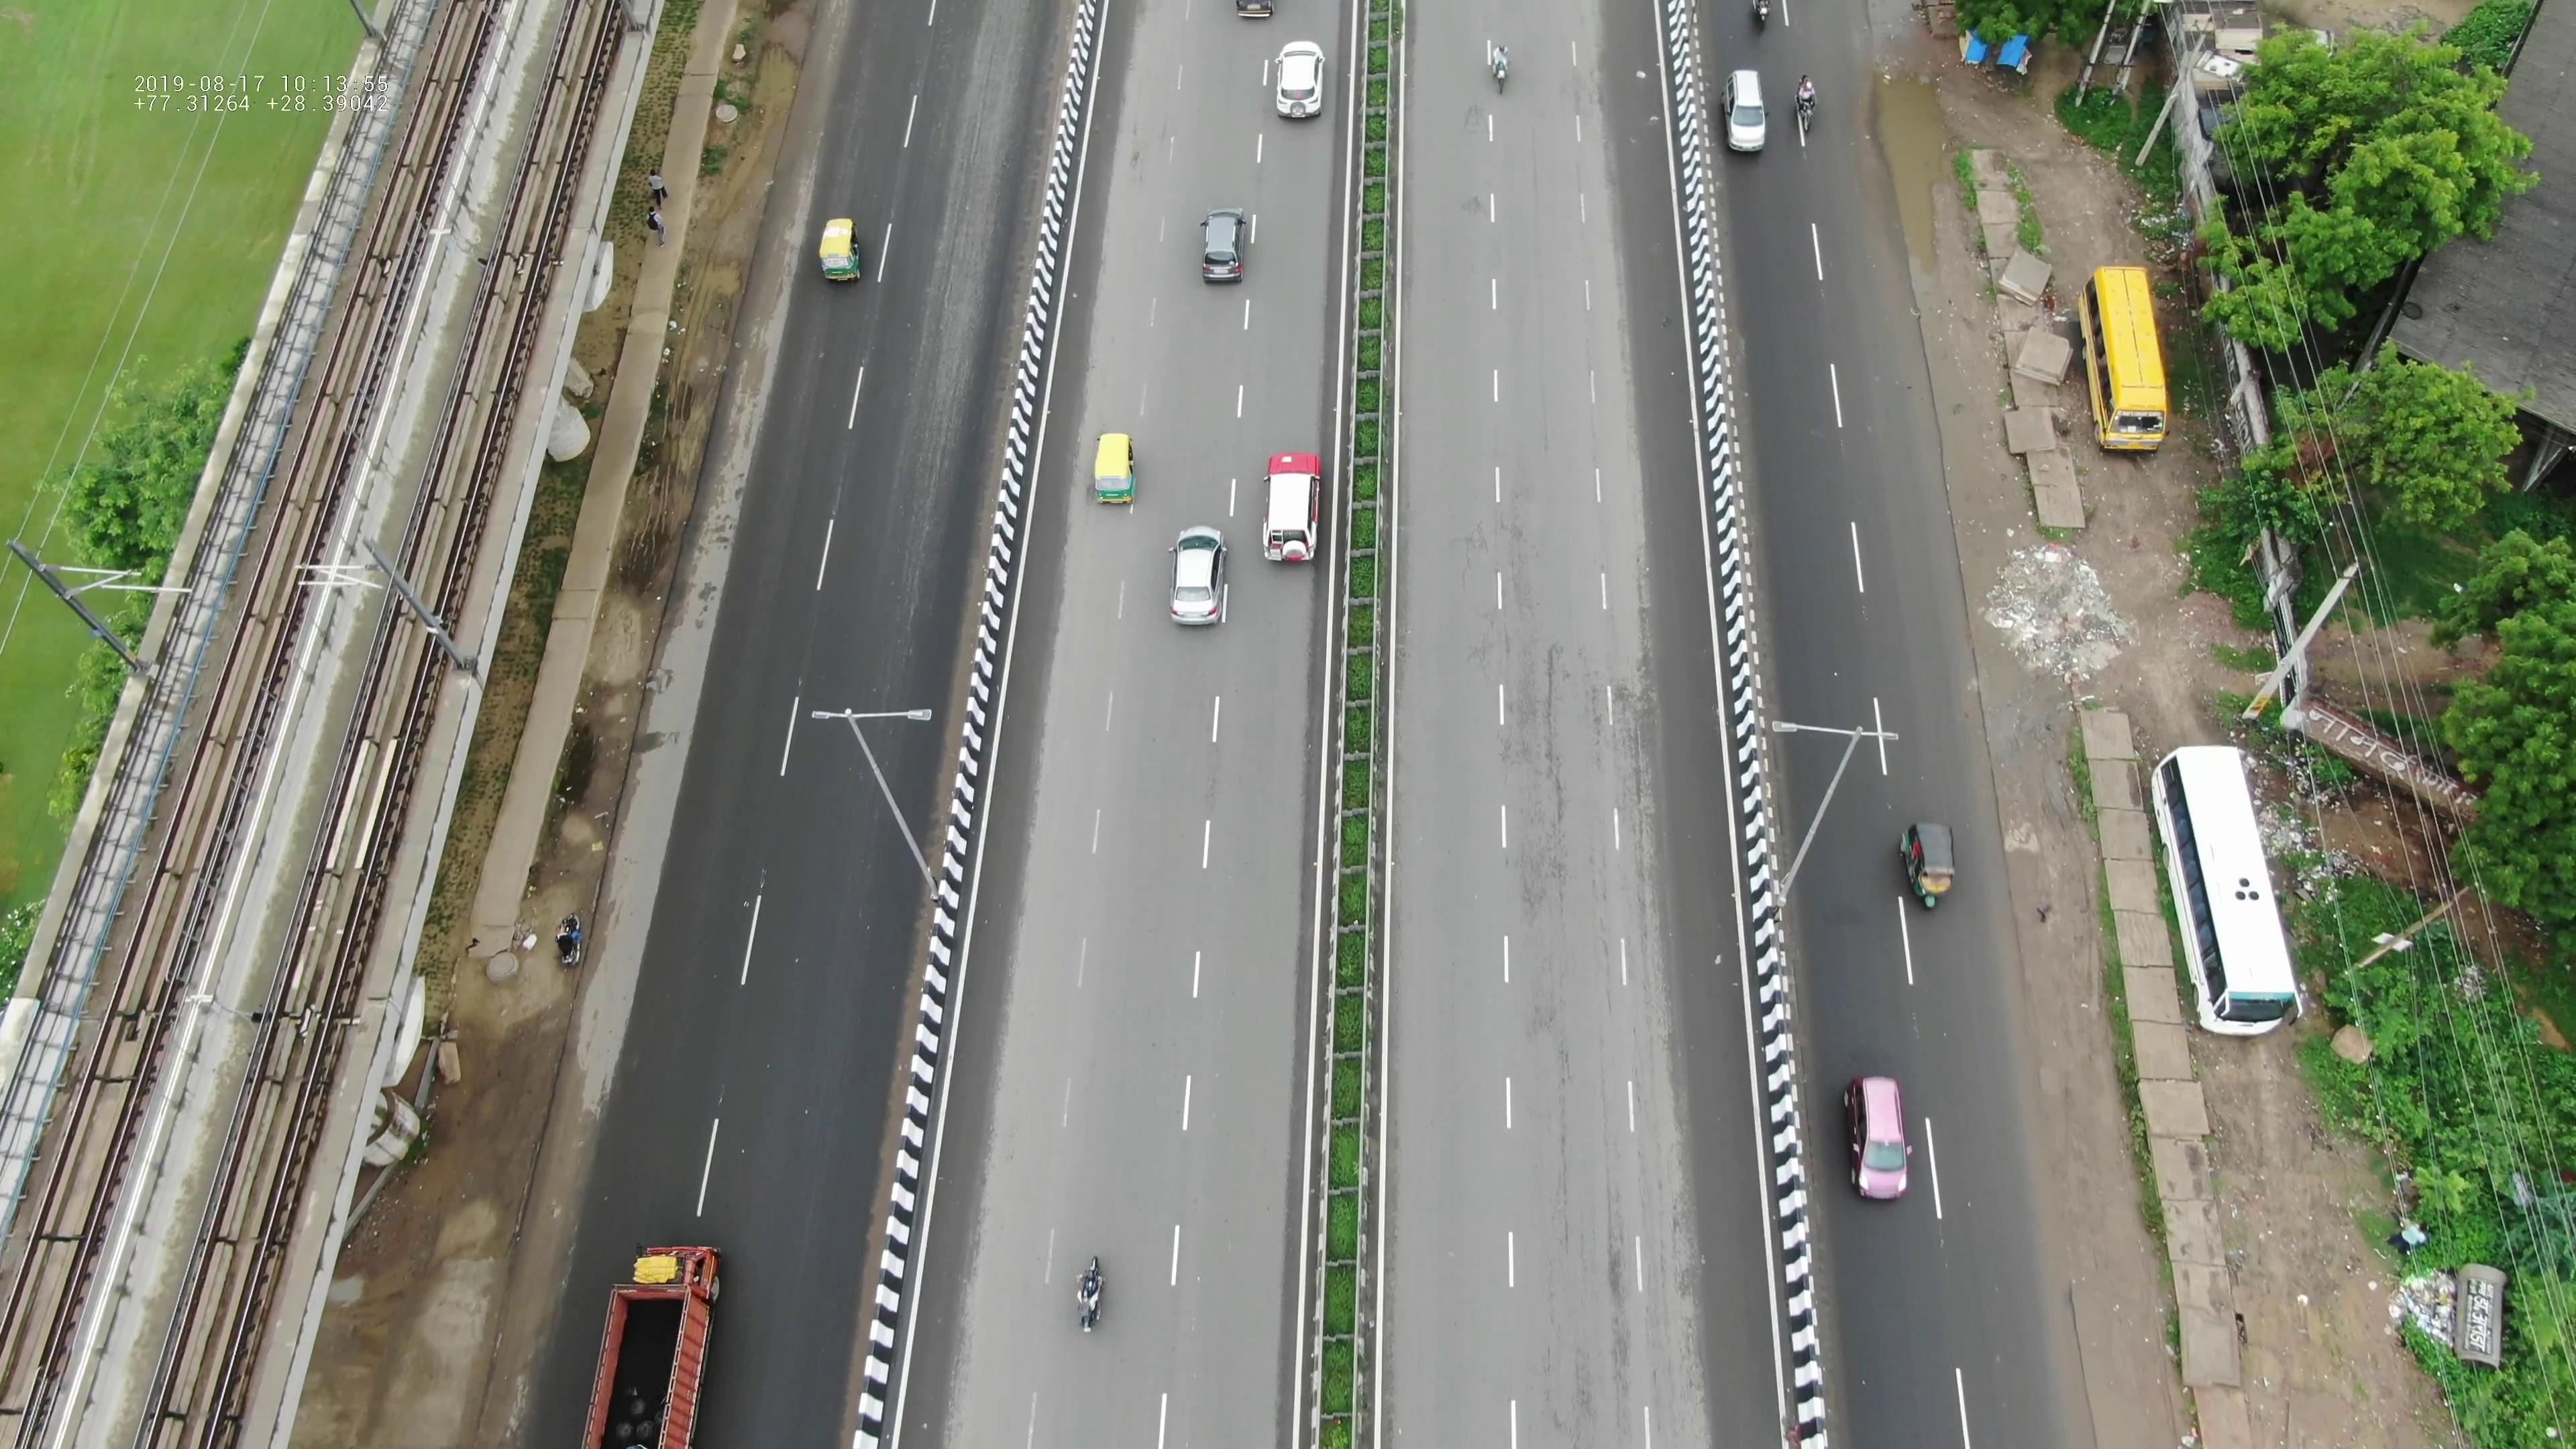Ravelling: (1474, 517, 1592, 913)
